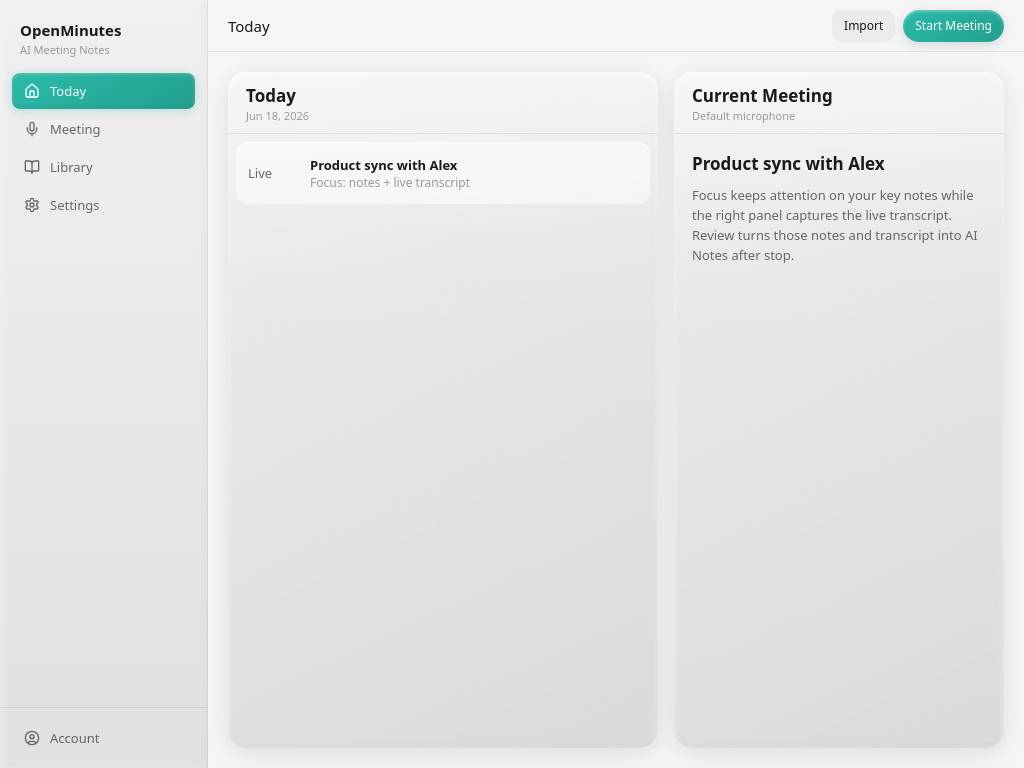
Test case: App › shows a provider configuration error without clearing existing AI Notes
Click the button "Meeting" at {"x": 104, "y": 129}, box [12,111,195,147]
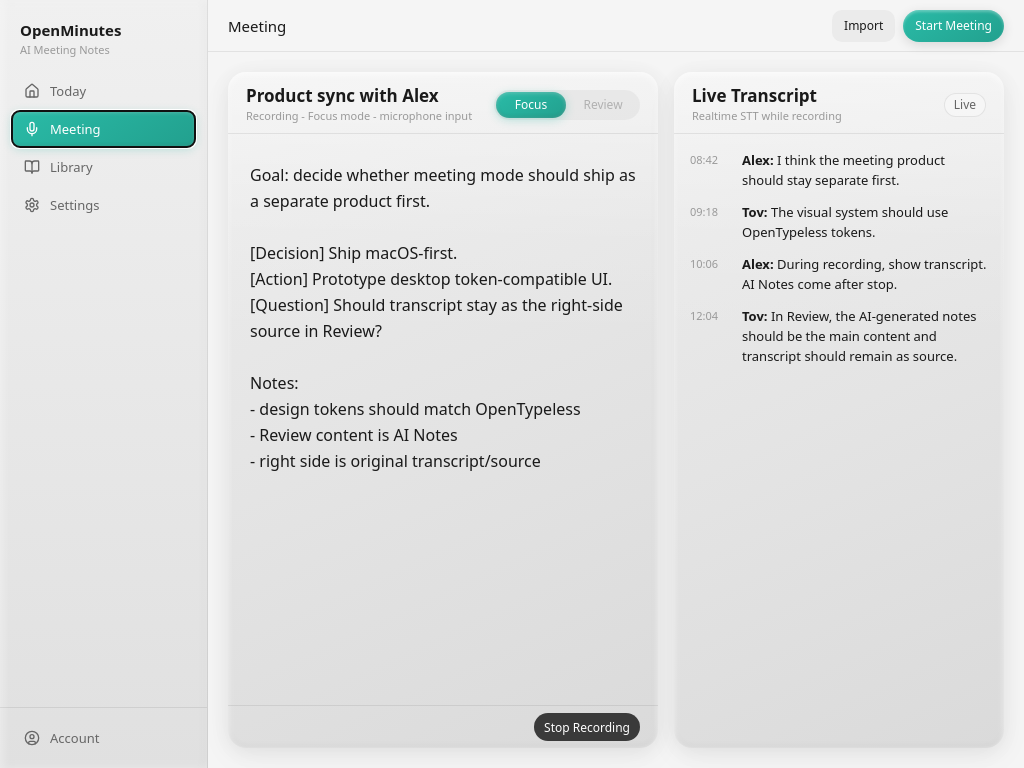
Click the button with aria-label "stop recording from meeting" at {"x": 587, "y": 727}, box [534,713,640,741]
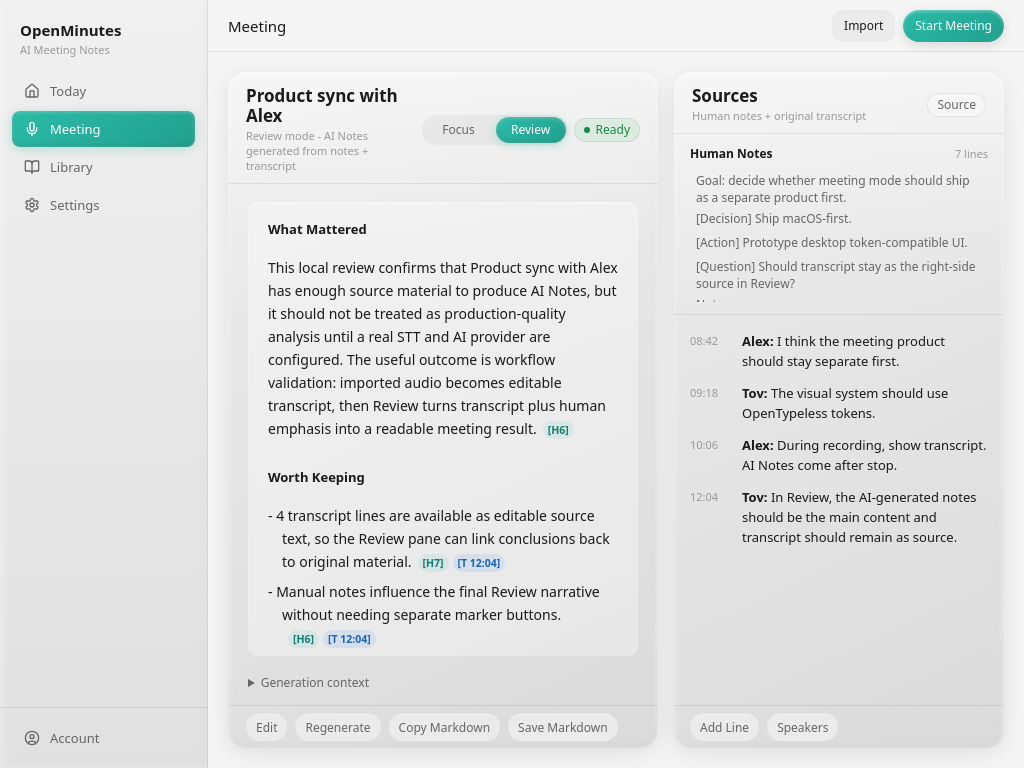
Expected: the text "local review confirms that Product sync with Alex" is shown, [268,258,621,438]
Click the button "Regenerate" at {"x": 338, "y": 727}, box [296,713,381,741]
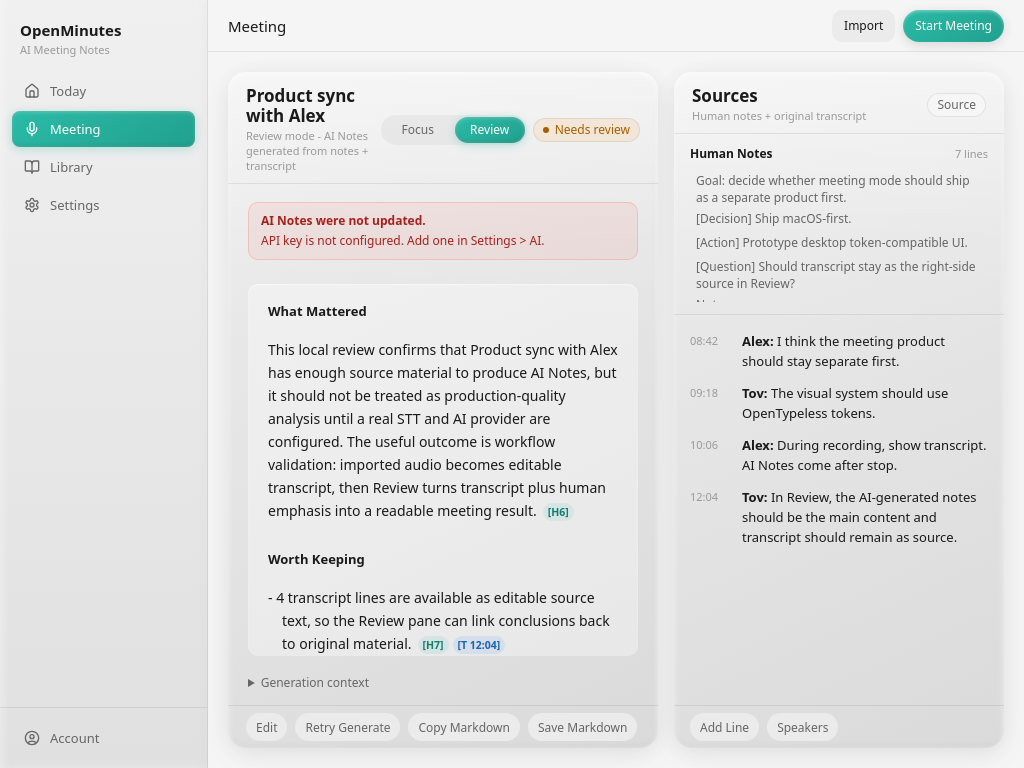
Expected: the text "local review confirms that Product sync with Alex" is shown, [268,340,621,520]
Expected: the message shows "API key is not configured", [261,232,544,249]
